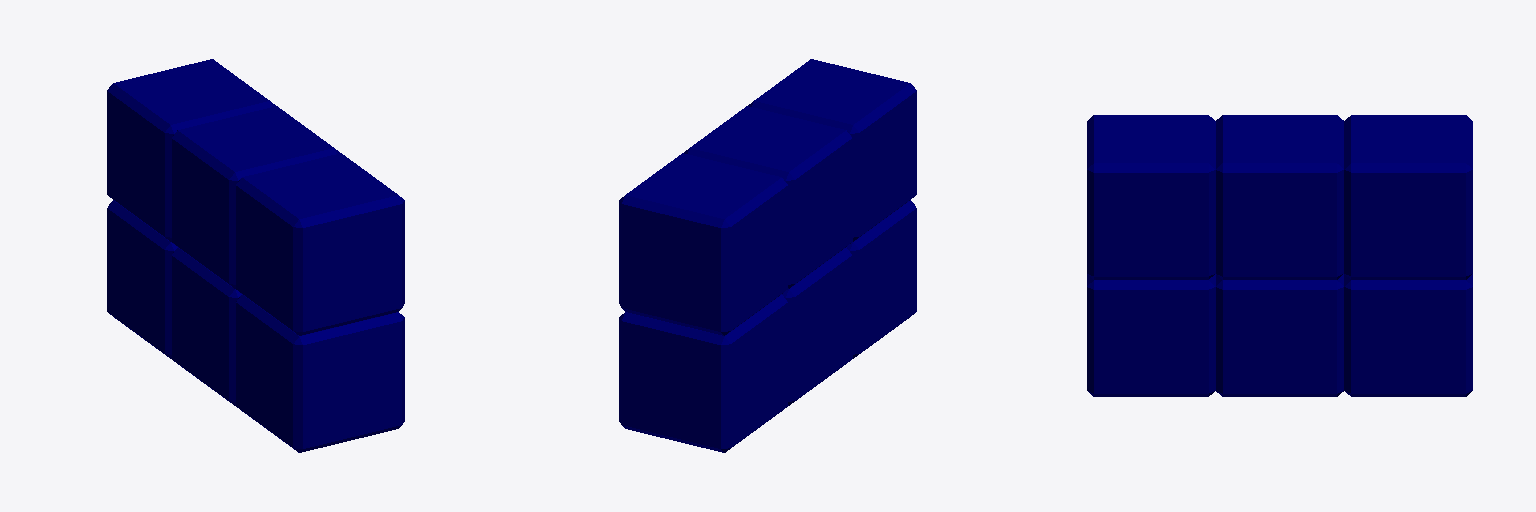
Rendered from piece4.obj.
3 views of the same model, side by side, from view 1: azimuth 30°, elevation 25°; view 2: azimuth 150°, elevation 25°; view 3: azimuth 270°, elevation 25° (orthographic).
Visible parts, largest first — view 1: Cube.004; view 2: Cube.004; view 3: Cube.004.
Boxes of the visible parts, box(x1,y1,x2,y2) form: Cube.004: box(107, 59, 404, 452); Cube.004: box(619, 59, 916, 452); Cube.004: box(1087, 115, 1472, 396).
Size of the model in its own units: 2 by 4.01 by 6.